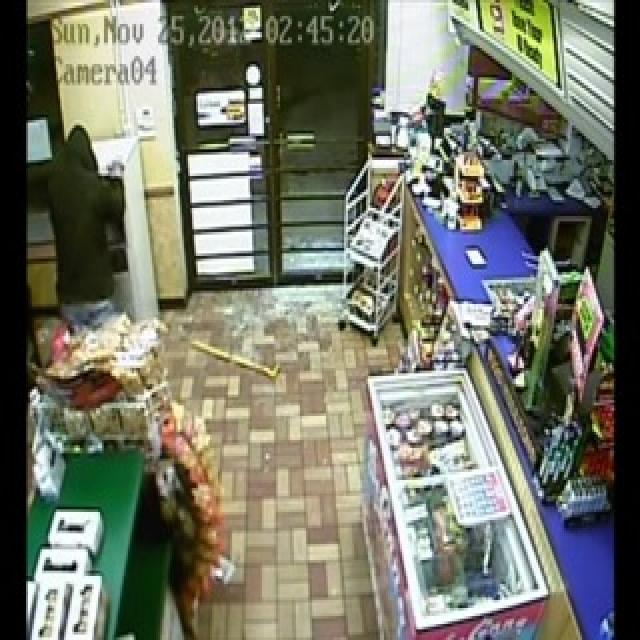thief: (42, 115, 127, 349)
